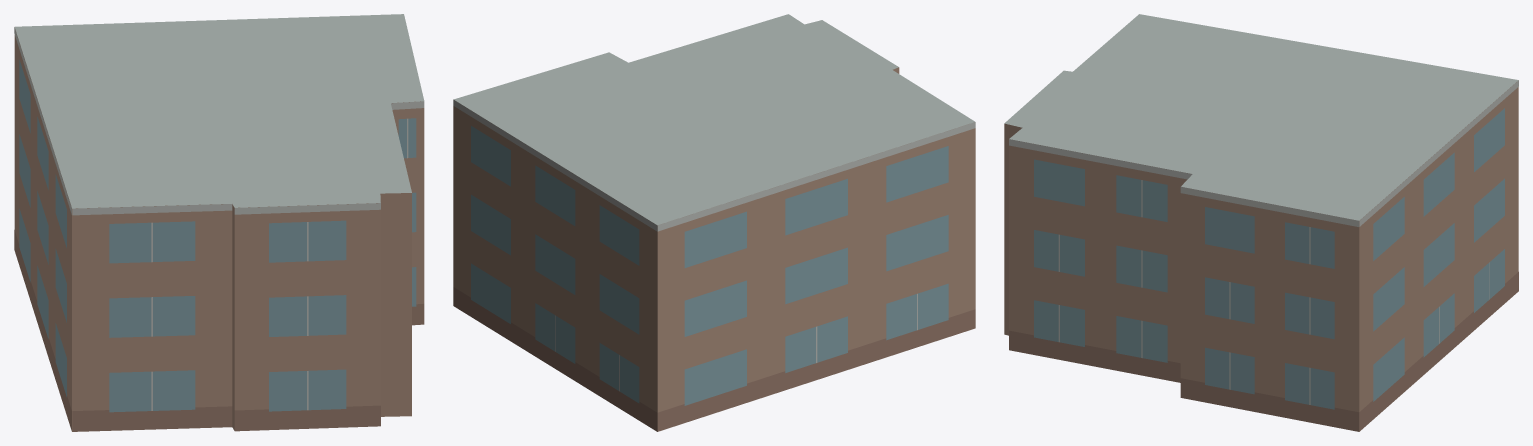
Rendered from survey-upis-32817290.glb.
3 renders of one model, left to right at view 1: azimuth 30°, elevation 25°; view 2: azimuth 150°, elevation 25°; view 3: azimuth 270°, elevation 25°, orthographic. The views are drawn at different scales.
Visible parts, largest first — view 1: survey-upis-32817290.tmp; view 2: survey-upis-32817290.tmp; view 3: survey-upis-32817290.tmp.
Part boxes in pixels (x1,y1,x2,y2): survey-upis-32817290.tmp: [14, 14, 424, 431]; survey-upis-32817290.tmp: [453, 14, 975, 431]; survey-upis-32817290.tmp: [1004, 14, 1518, 431].
Bounding box in the file's own units: 16.82 × 8 × 17.68.
